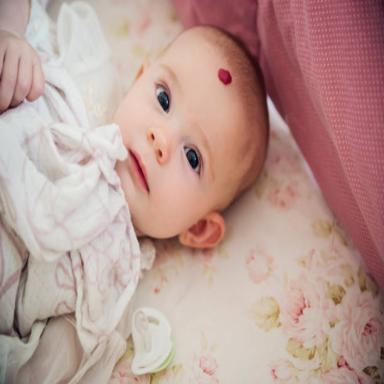Hemangiome: (217, 69, 232, 85)
